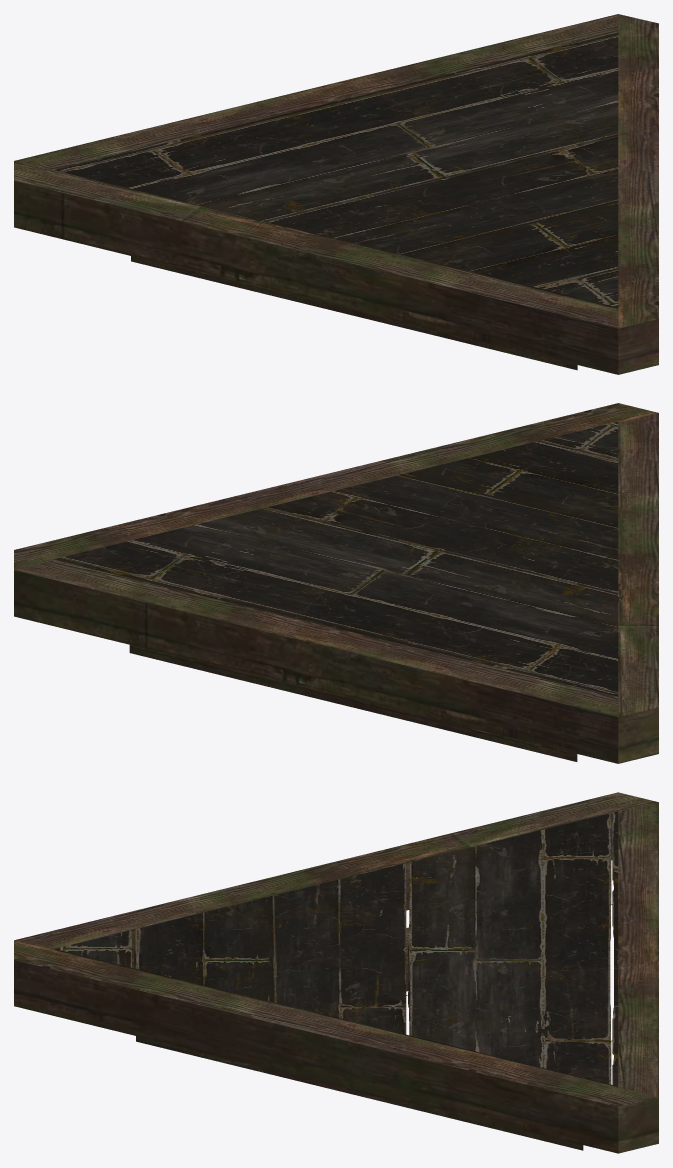
3 views of the same model, one above another, from view 1: azimuth 30°, elevation 25°; view 2: azimuth 150°, elevation 25°; view 3: azimuth 270°, elevation 25° (orthographic).
Parts seen in each view (by area): view 1: SM_BB_T1_Floor_Trangle_Large_LOD0; view 2: SM_BB_T1_Floor_Trangle_Large_LOD0; view 3: SM_BB_T1_Floor_Trangle_Large_LOD0.
Part boxes in pixels (left/top/right/bottom): SM_BB_T1_Floor_Trangle_Large_LOD0: left=14, top=14, right=658, bottom=374; SM_BB_T1_Floor_Trangle_Large_LOD0: left=14, top=403, right=658, bottom=763; SM_BB_T1_Floor_Trangle_Large_LOD0: left=14, top=792, right=658, bottom=1153.
Bounding box in the file's own units: 3.43 × 0.4716 × 2.97.
2 materials, 2 textured.
